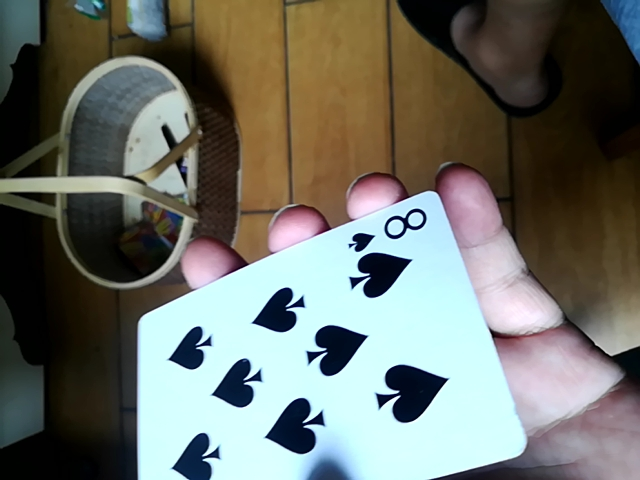ht 8: (142, 177, 524, 479)
